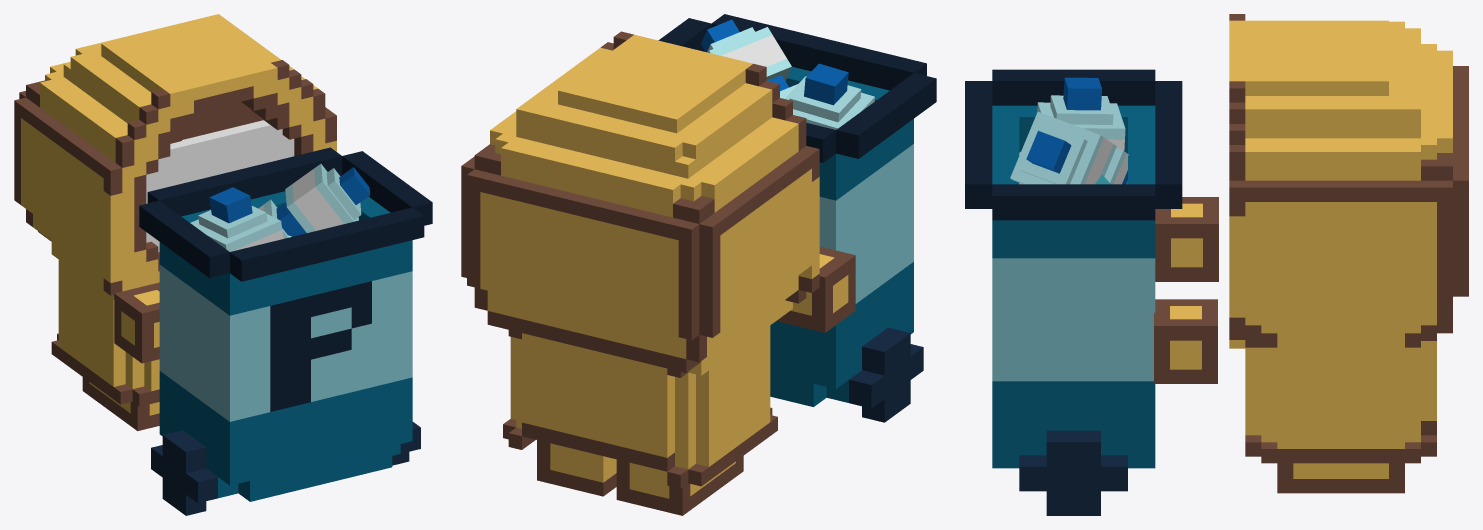
Rendered from p1_plas_con.gltf.
3 renders of one model, left to right at view 1: azimuth 30°, elevation 25°; view 2: azimuth 150°, elevation 25°; view 3: azimuth 270°, elevation 25°, orthographic. The views are drawn at different scales.
Parts seen in each view (by area): view 1: Object_0.001, Object_0, Object_0.005, Object_0.004, Object_0.002; view 2: Object_0, Object_0.001, Object_0.002, Object_0.004, Object_0.005; view 3: Object_0, Object_0.001, Object_0.005, Object_0.003, Object_0.002, Object_0.004.
Part boxes in pixels (x1,y1,x2,y2): Object_0.001: [139, 147, 432, 515]; Object_0: [14, 14, 336, 430]; Object_0.005: [258, 164, 370, 238]; Object_0.004: [190, 187, 283, 251]; Object_0.002: [114, 282, 159, 363]; Object_0: [461, 31, 819, 515]; Object_0.001: [658, 14, 936, 422]; Object_0.002: [777, 246, 855, 332]; Object_0.004: [784, 63, 874, 129]; Object_0.005: [701, 19, 801, 98]; Object_0: [1229, 14, 1468, 493]; Object_0.001: [965, 69, 1182, 515]; Object_0.005: [1010, 112, 1128, 184]; Object_0.003: [1154, 299, 1217, 383]; Object_0.002: [1155, 197, 1218, 281]; Object_0.004: [1037, 77, 1125, 150].
Bounding box in the file's own units: 1.93 × 2.8 × 3.16.
8 materials, 8 textured.
